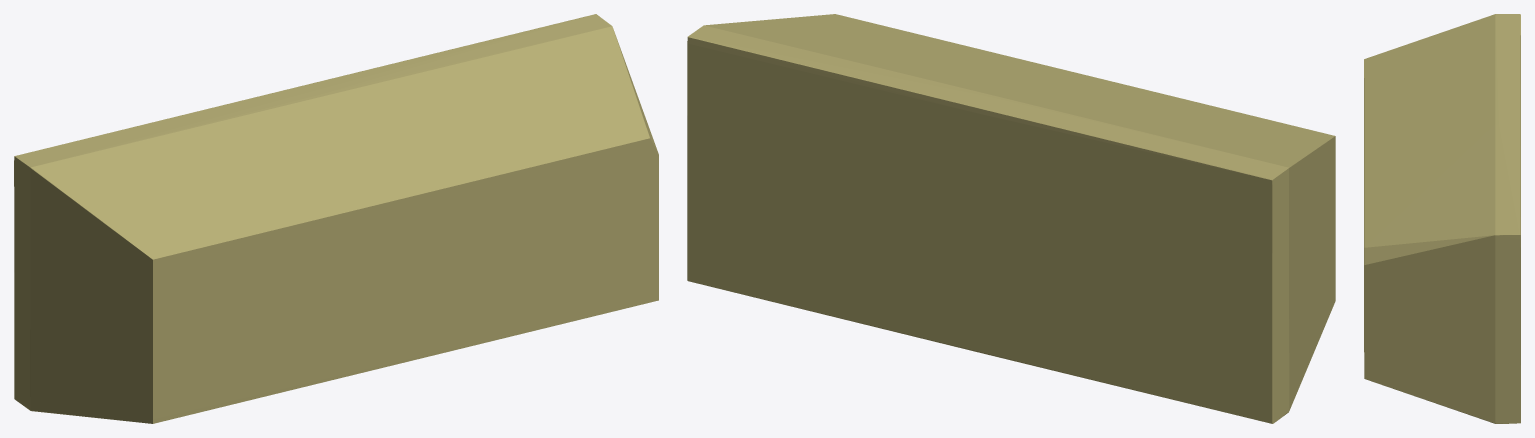
File: lamp_ceiling_1m_rectangle_a01.glb
3 renders of one model, left to right at view 1: azimuth 30°, elevation 25°; view 2: azimuth 150°, elevation 25°; view 3: azimuth 270°, elevation 25°, orthographic. The views are drawn at different scales.
Parts seen in each view (by area): view 1: geometry_0; view 2: geometry_0; view 3: geometry_0.
Part boxes in pixels (left/top/right/bottom): geometry_0: left=14, top=14, right=658, bottom=423; geometry_0: left=687, top=14, right=1335, bottom=423; geometry_0: left=1364, top=14, right=1520, bottom=423.
Size of the model in its own units: 0.48 by 0.192 by 0.144.
